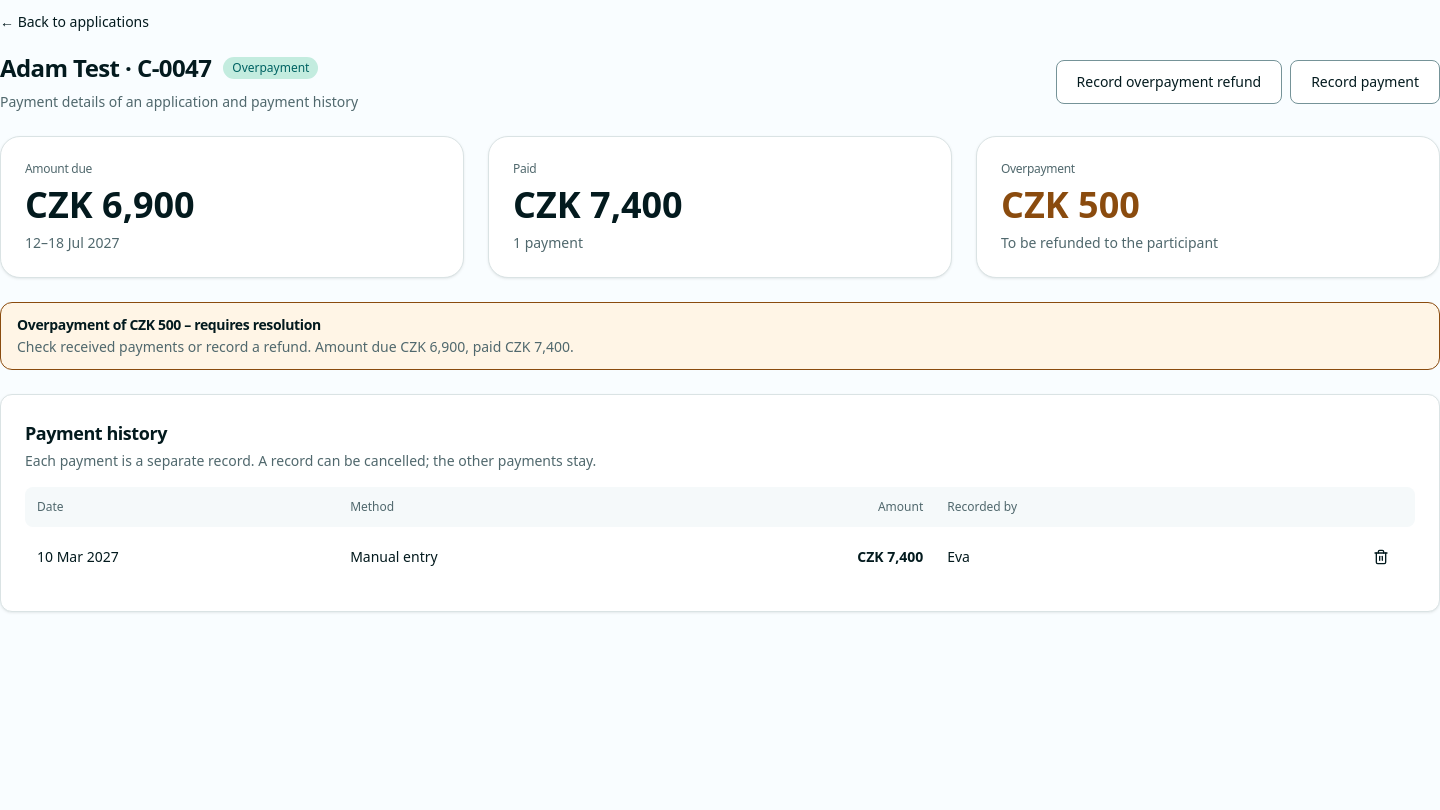
Test: PaymentDetail › records a refund in history, clears the overpayment, and previews cancelling that refund
Click the button "Record overpayment refund". click: [1169, 82]
box: [1056,60,1282,104]
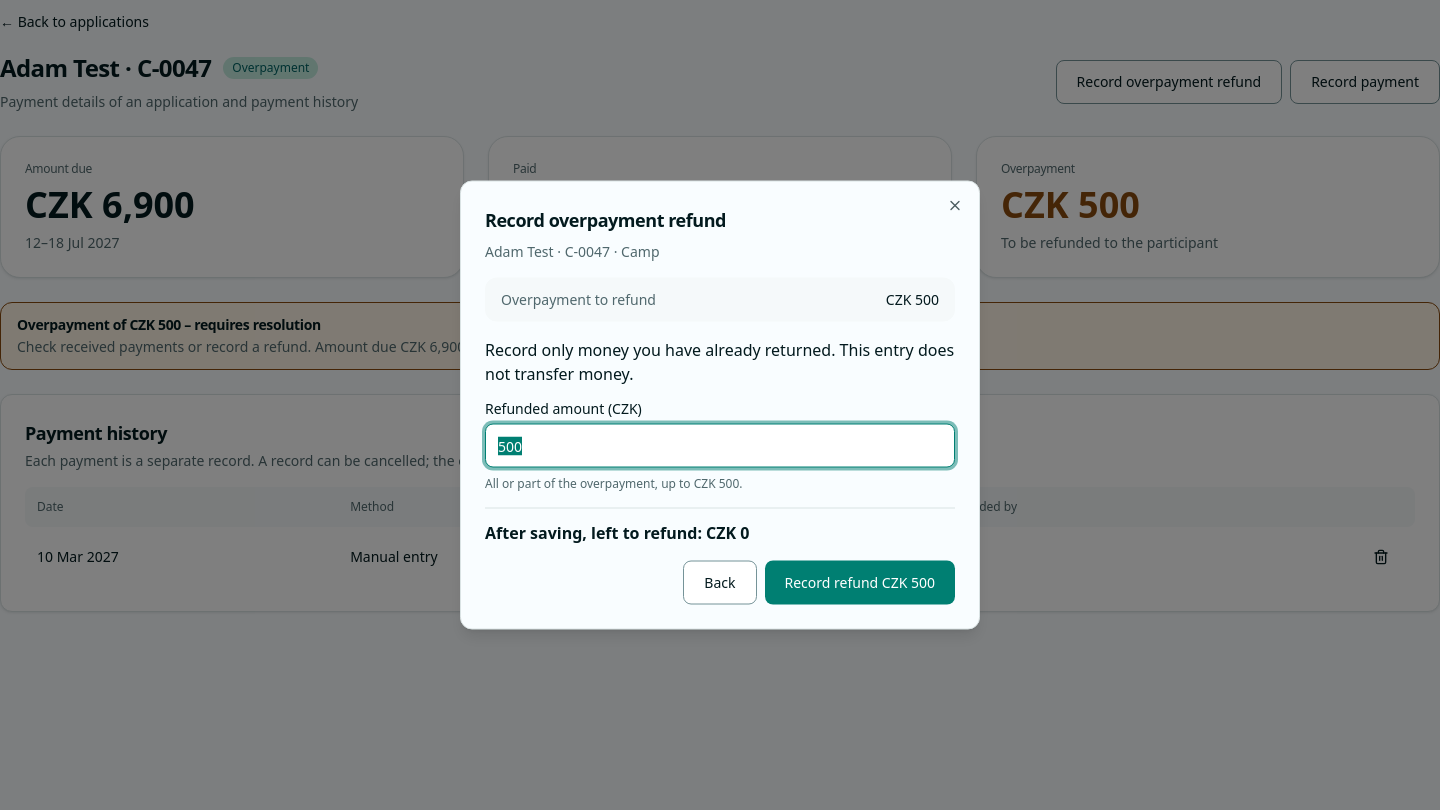
Click the button "Record refund CZK 500". click: [860, 582]
box: [764,560,955,604]
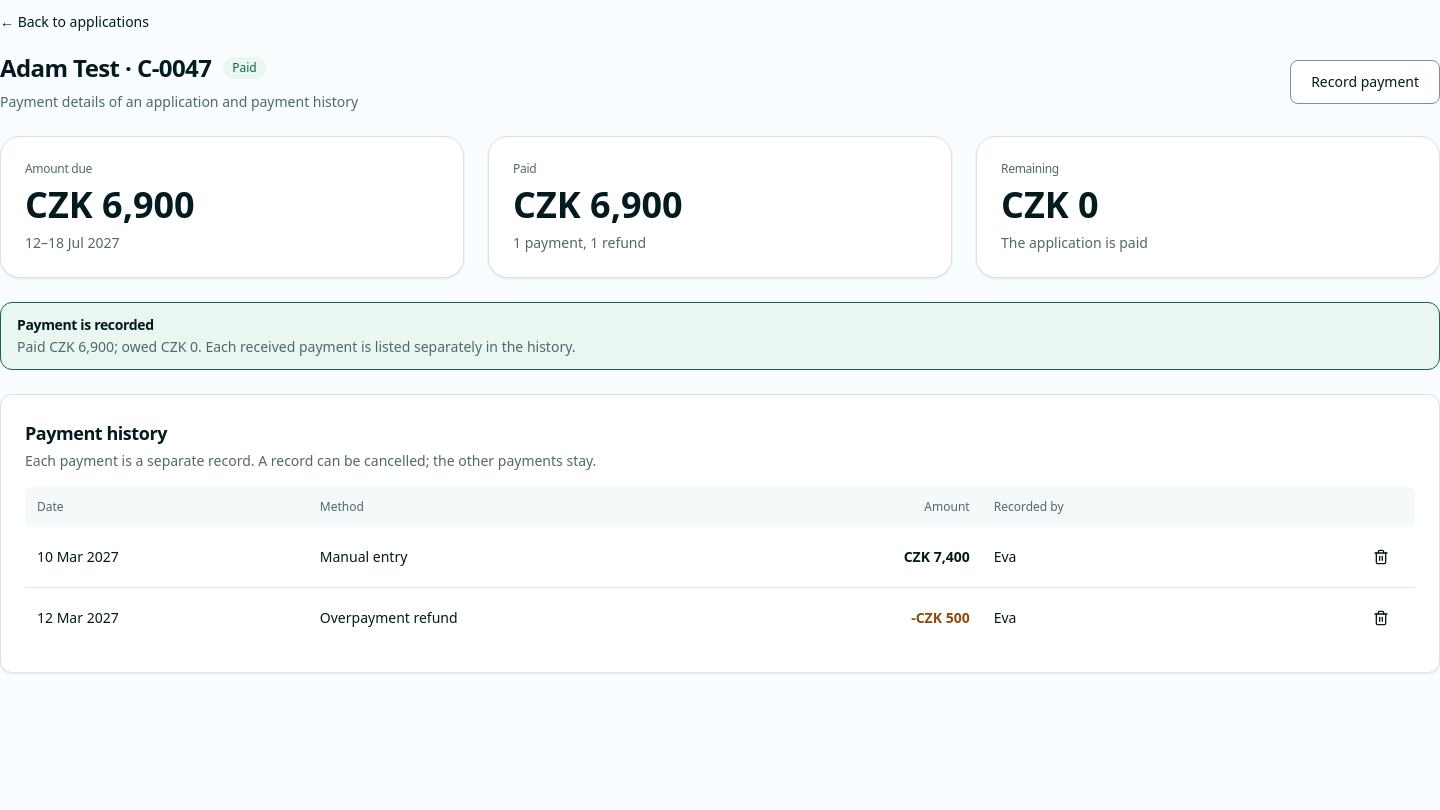
Expected: the dialog is gone
Expected: the button "Record overpayment refund" is gone
Expected: the row "12 Mar 2027 Overpayment refund -CZK 500 Eva" is shown, [25,588,1415,648]
Click the button named "Cancel record" in the row of "12 Mar 2027". click: [1381, 618]
box: [1359,596,1403,640]
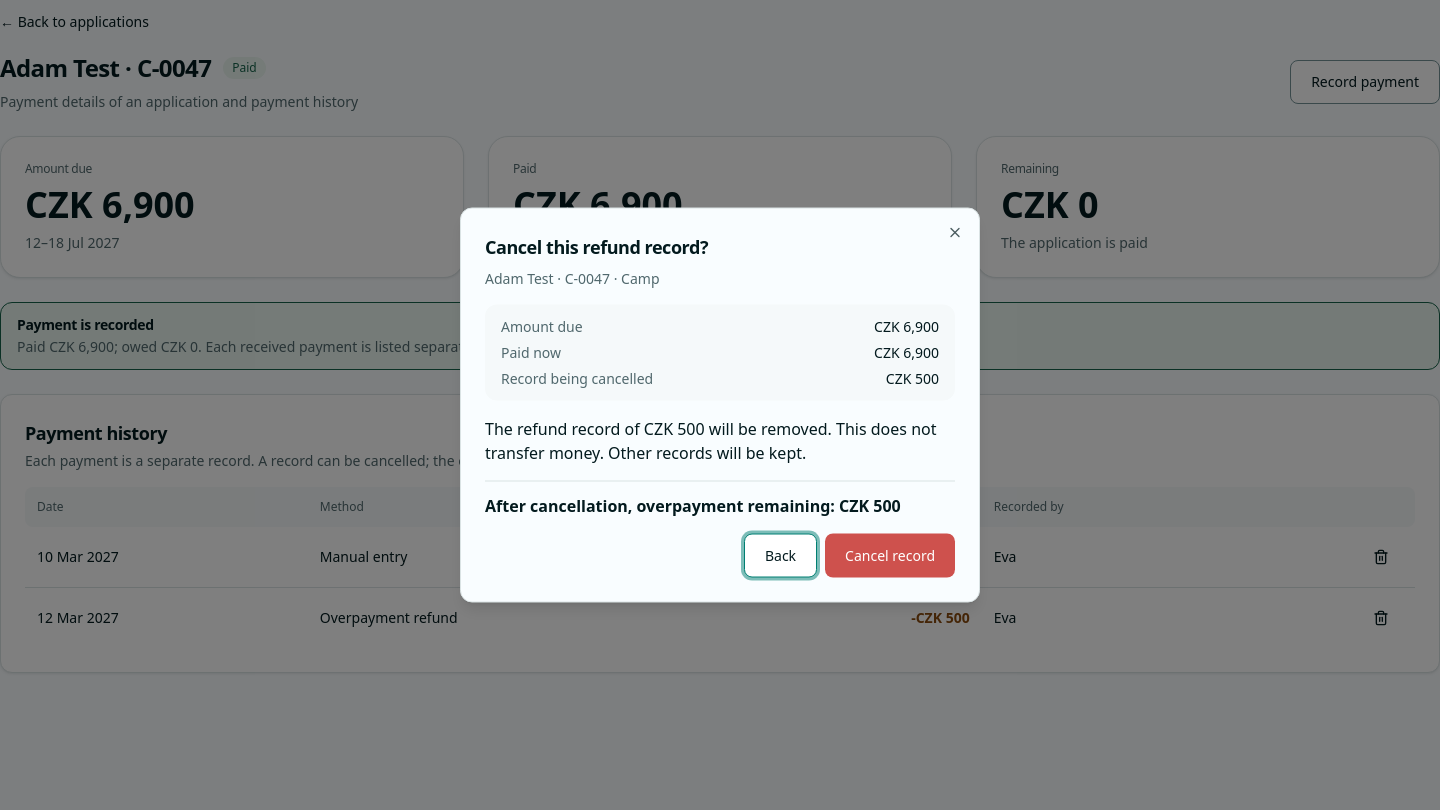
Expected: the dialog shows "Cancel this refund record?", [485,234,708,258]
